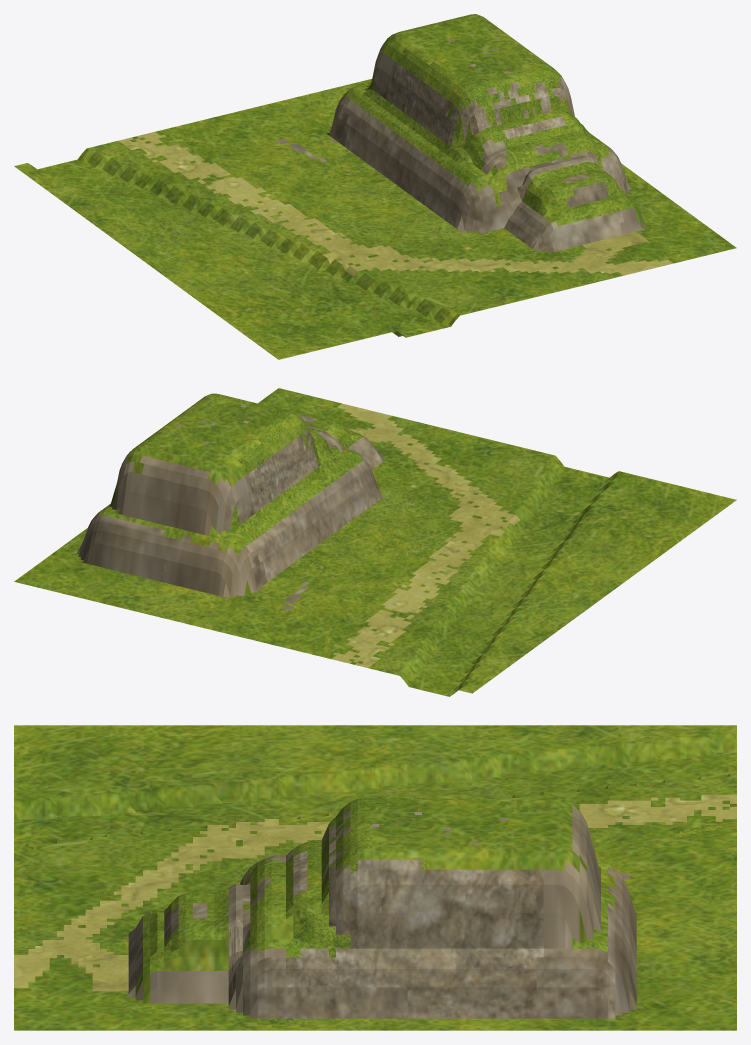
File: 3D_MoeMapField02.glb
3 renders of one model, top to bottom at view 1: azimuth 30°, elevation 25°; view 2: azimuth 150°, elevation 25°; view 3: azimuth 270°, elevation 25°, orthographic. The views are drawn at different scales.
Visible parts, largest first — view 1: 平面; view 2: 平面; view 3: 平面.
Part boxes in pixels (x1,y1,x2,y2): 平面: (14,14,736,359); 平面: (14,388,736,696); 平面: (14,725,736,1030).
Size of the model in its own units: 100 by 23.23 by 100.
Materials: 3 (3 with a texture image).
